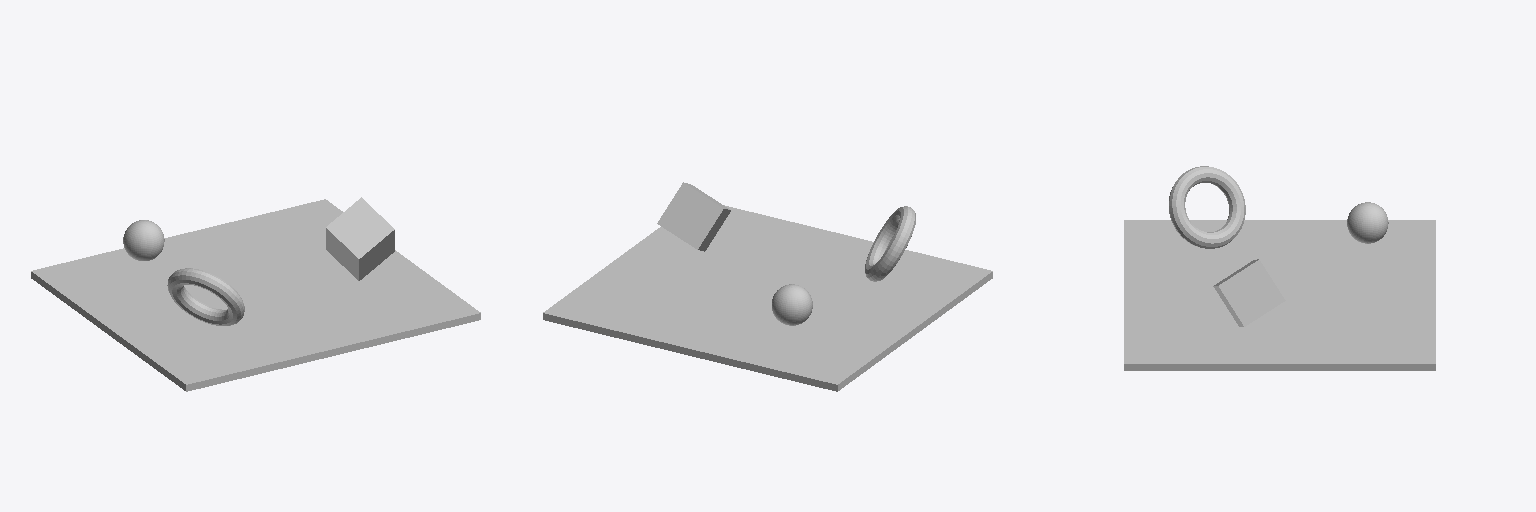
The model's file is platform_test3.obj.
The picture shows the model from 3 angles: view 1: azimuth 30°, elevation 25°; view 2: azimuth 150°, elevation 25°; view 3: azimuth 270°, elevation 25°; orthographic projection.
Visible parts, largest first — view 1: Cube, Cube.001; view 2: Cube, Cube.001; view 3: Cube, Cube.001.
Boxes of the visible parts, x1,y1,x2,y2 form: Cube: [31, 199, 480, 391]; Cube.001: [326, 197, 394, 280]; Cube: [543, 205, 992, 391]; Cube.001: [657, 182, 730, 251]; Cube: [1124, 166, 1435, 370]; Cube.001: [1213, 259, 1285, 326].
Bounding box in the file's own units: 13.86 × 3.86 × 12.68.